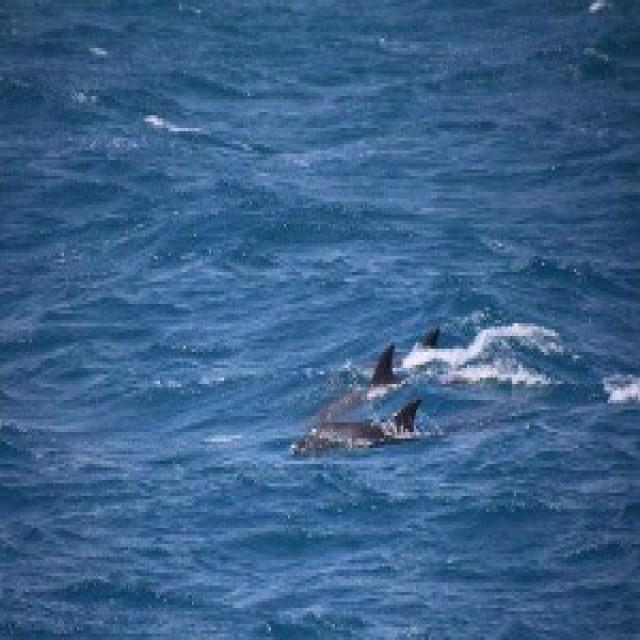Dolphin: (291, 400, 451, 481), (318, 339, 408, 401)
